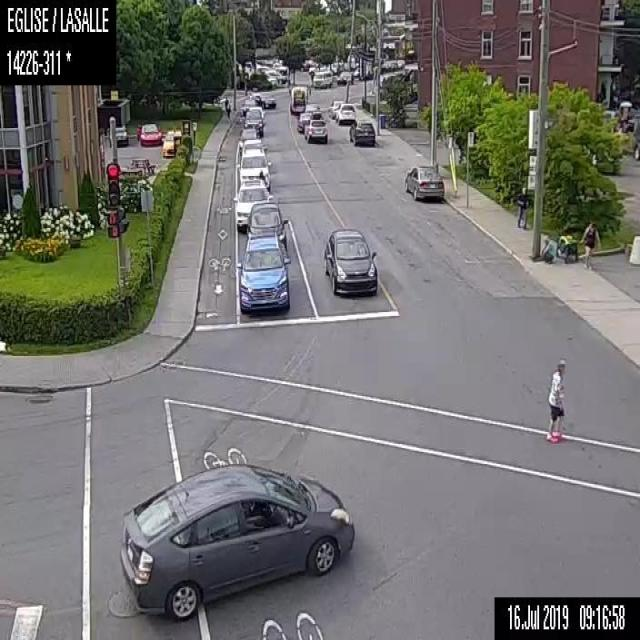pedestrian: (544, 360, 564, 443), (576, 217, 600, 268), (515, 184, 530, 231), (537, 235, 555, 262), (224, 95, 231, 117)
vehicle: (118, 463, 355, 620), (236, 226, 291, 314), (321, 225, 378, 292), (230, 177, 270, 228), (247, 198, 287, 246), (402, 164, 444, 203), (236, 150, 270, 188), (348, 117, 375, 148), (303, 117, 329, 144), (242, 109, 264, 137), (136, 121, 162, 144), (250, 90, 278, 111), (161, 128, 180, 156), (334, 102, 357, 124), (289, 82, 306, 110), (238, 127, 258, 150), (311, 70, 333, 90), (240, 139, 267, 154), (113, 124, 127, 146), (297, 111, 310, 131), (336, 70, 350, 86), (328, 98, 339, 118)
